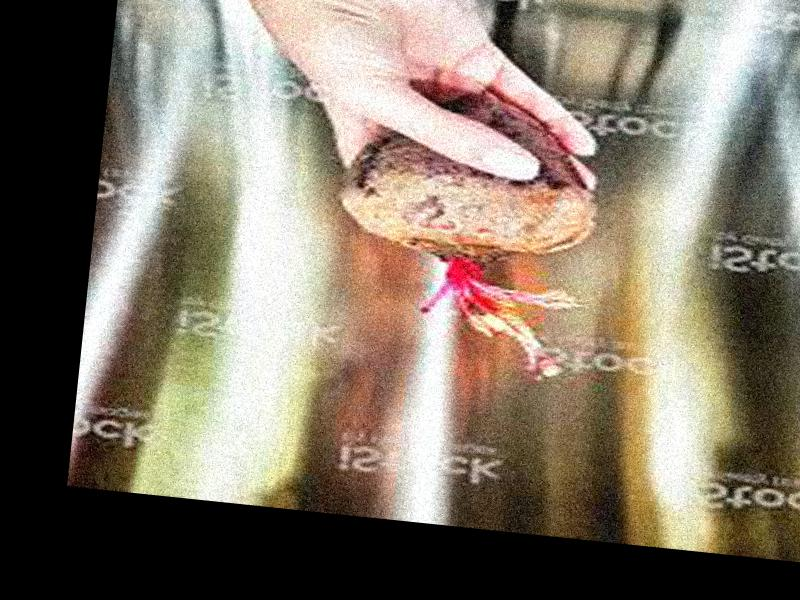Beet: (327, 81, 607, 376)
